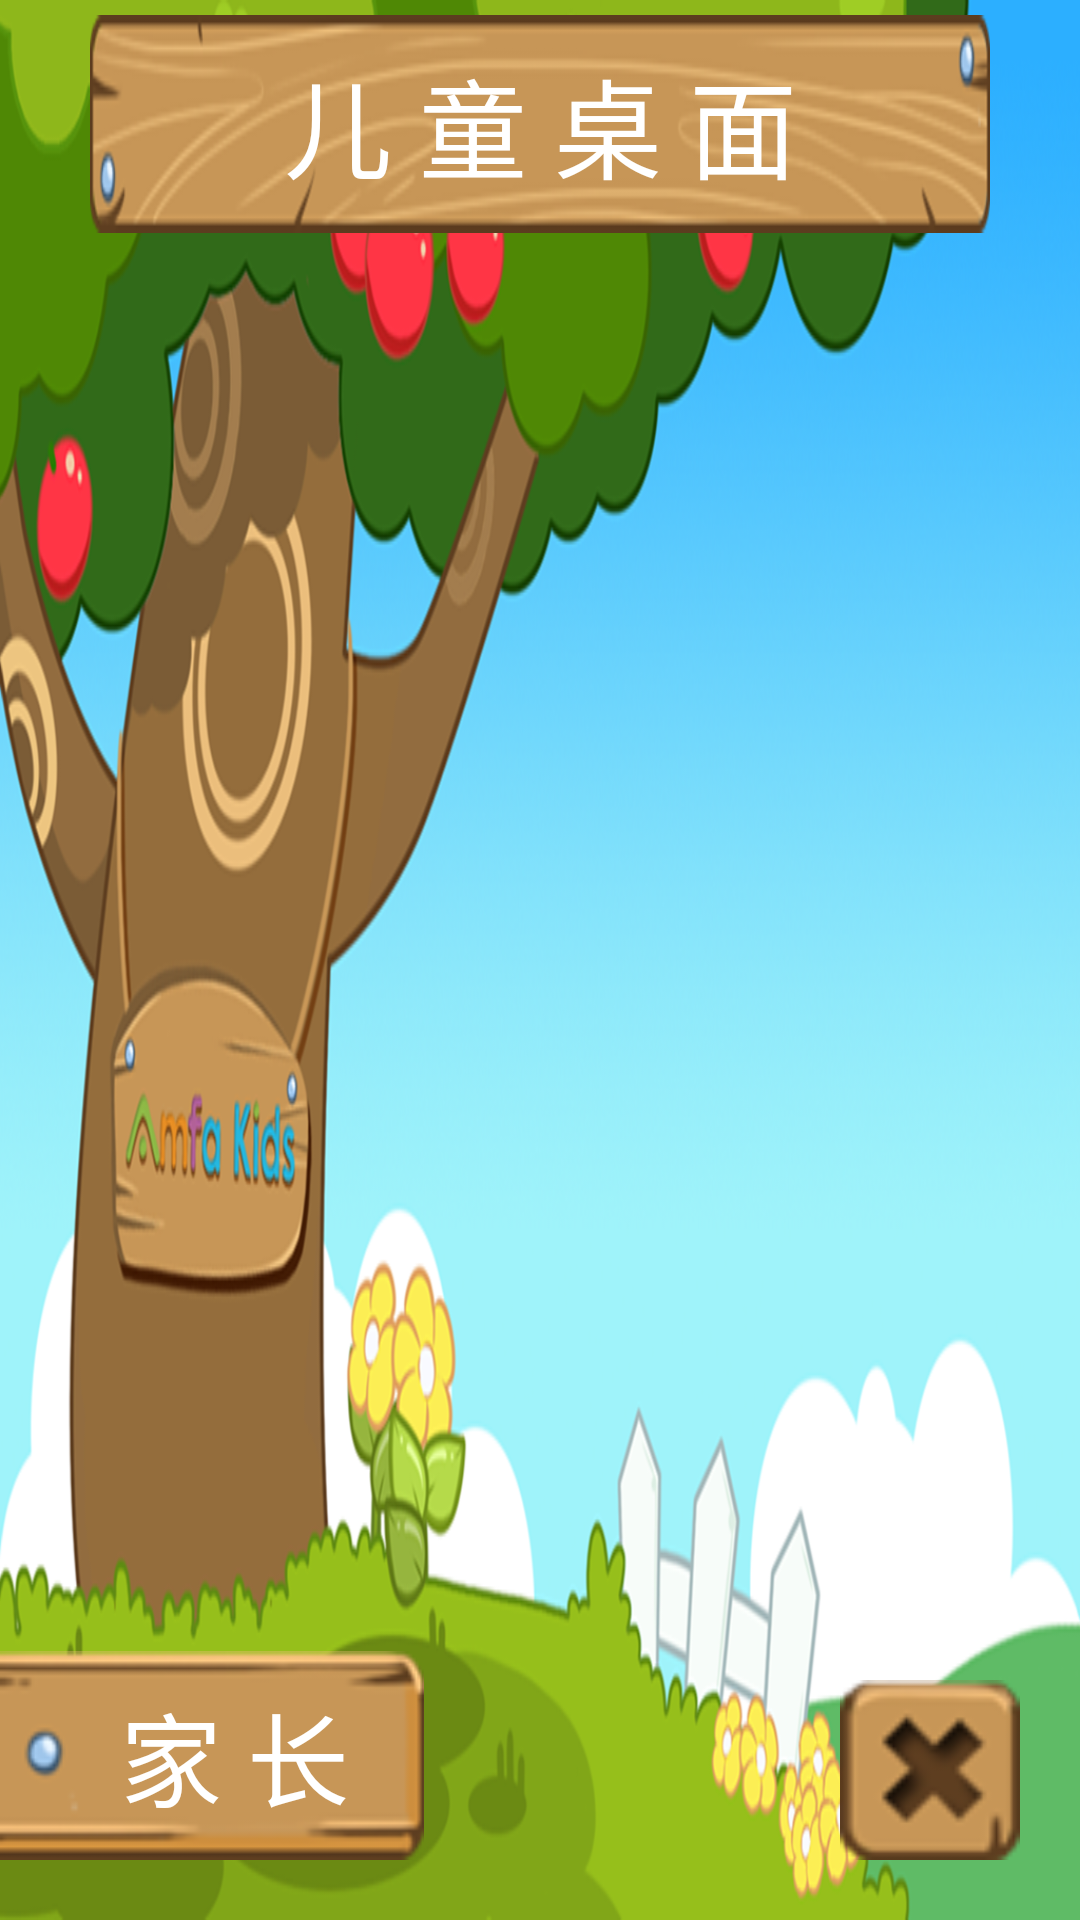

Screen size 1080 x 1920. Icon name, then its box in pixels as [x1=x1, y1=y1, x2=x2, y2=y2]:
end: [x1=840, y1=1680, x2=1020, y2=1860]
